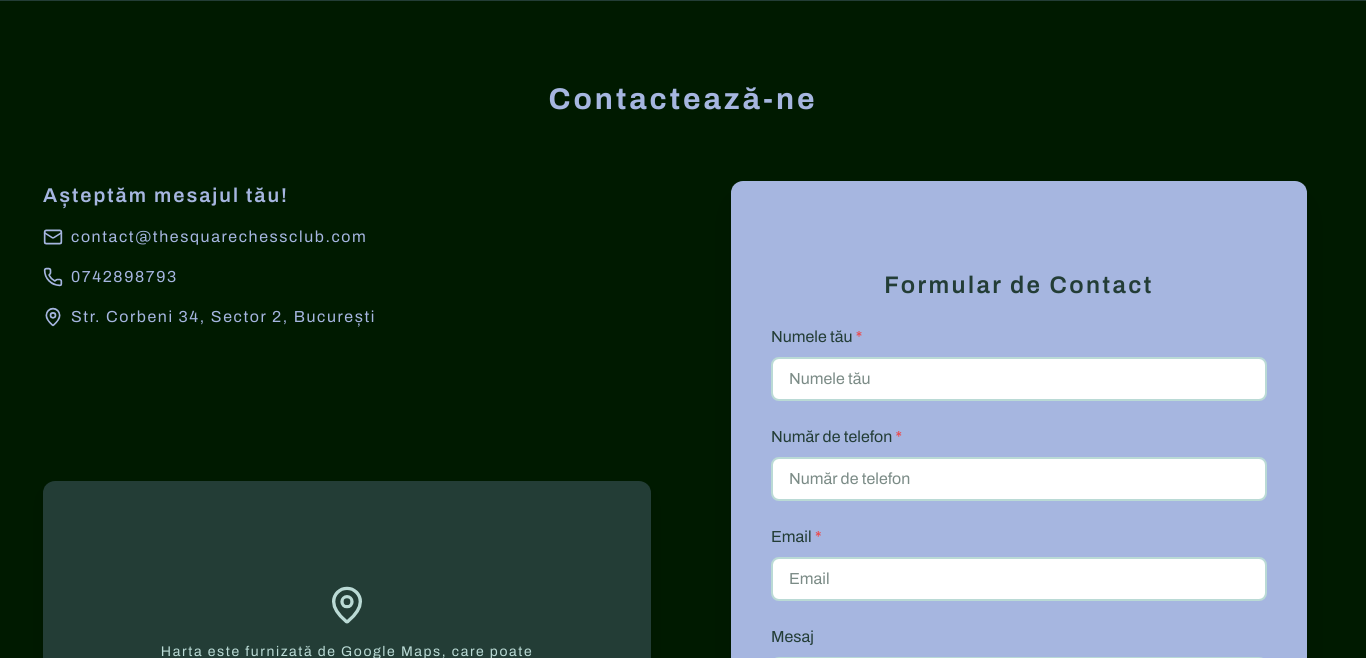
it: ContactSection › strips non-numeric characters from phone input
Step 1. Type "074-123-abc" into the field labelled "Număr de telefon *" → point(1019, 479), box [771,457,1267,501]
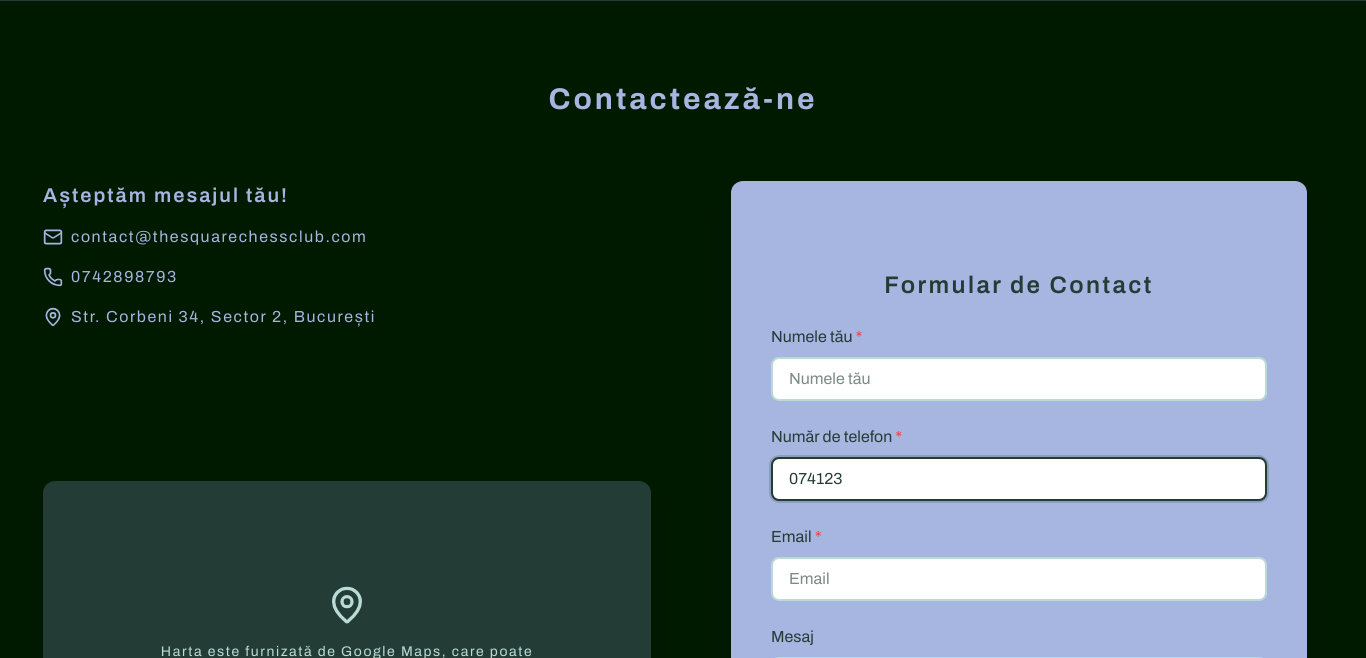
Check: the field labelled "Număr de telefon *" holds "074123", box [771,457,1267,501]
